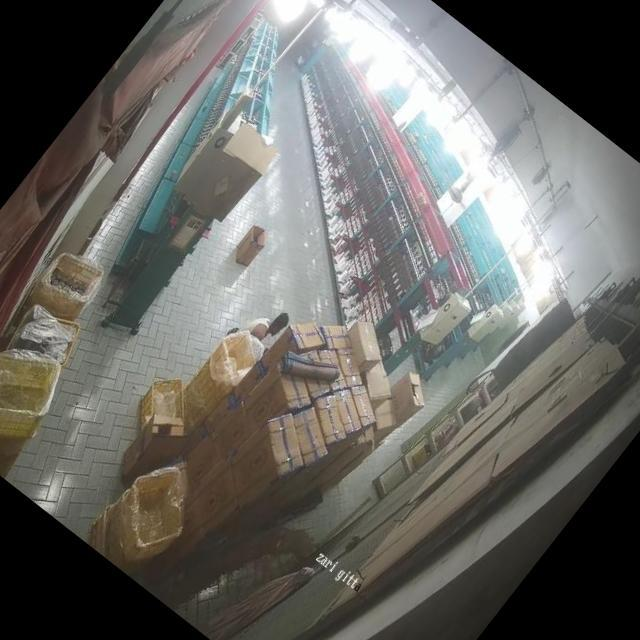person: (222, 291, 294, 368)
